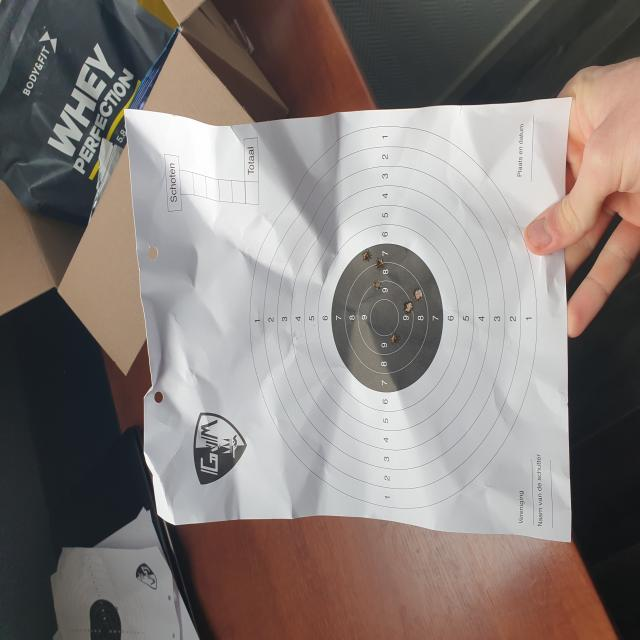7: (362, 248, 372, 262)
8: (375, 257, 386, 271), (413, 288, 423, 302)
9: (403, 298, 414, 315), (390, 332, 400, 344), (372, 280, 382, 291)
Target: (249, 121, 537, 510)
black_contour: (331, 242, 443, 392)
